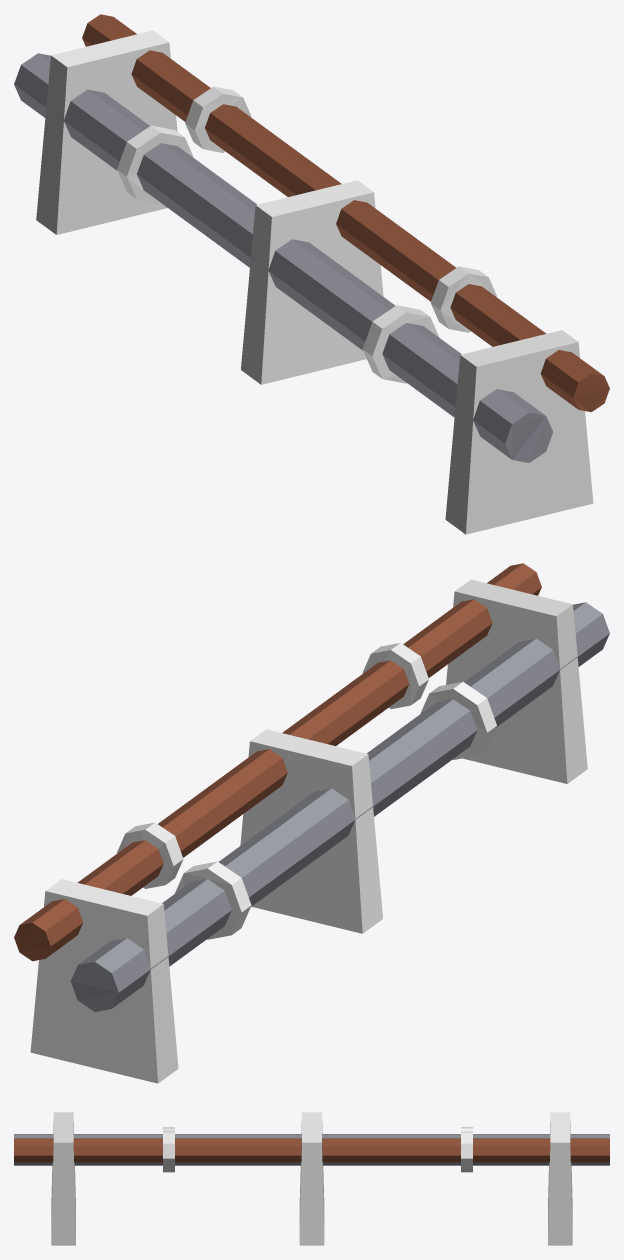
Rendered from Tech_PipeRun.fbx.
The picture shows the model from 3 angles, top to bottom: view 1: azimuth 30°, elevation 25°; view 2: azimuth 150°, elevation 25°; view 3: azimuth 270°, elevation 25°; orthographic projection. The views are drawn at different scales.
Parts seen in each view (by area): view 1: Tech_PipeRun; view 2: Tech_PipeRun; view 3: Tech_PipeRun.
Part boxes in pixels (x1,y1,x2,y2): Tech_PipeRun: [14, 14, 609, 534]; Tech_PipeRun: [14, 563, 609, 1083]; Tech_PipeRun: [14, 1112, 609, 1245].
Size of the model in its own units: 0.91 by 1.15 by 6.
